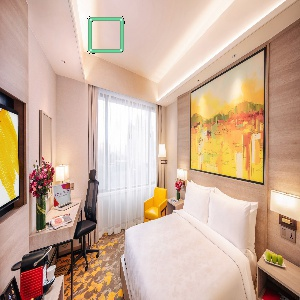square: (86, 15, 126, 53)
